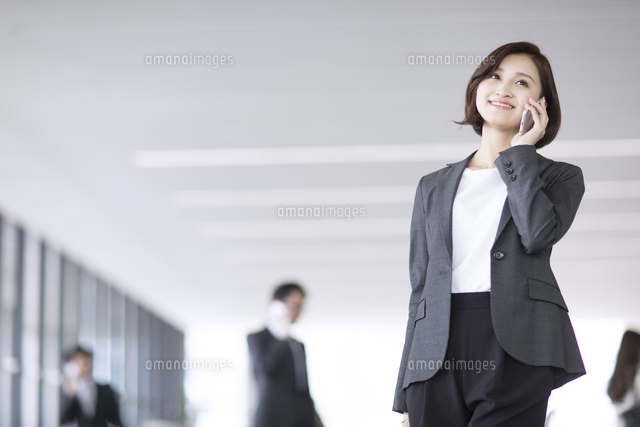phone: (518, 96, 553, 141)
talk: (476, 66, 551, 148)
